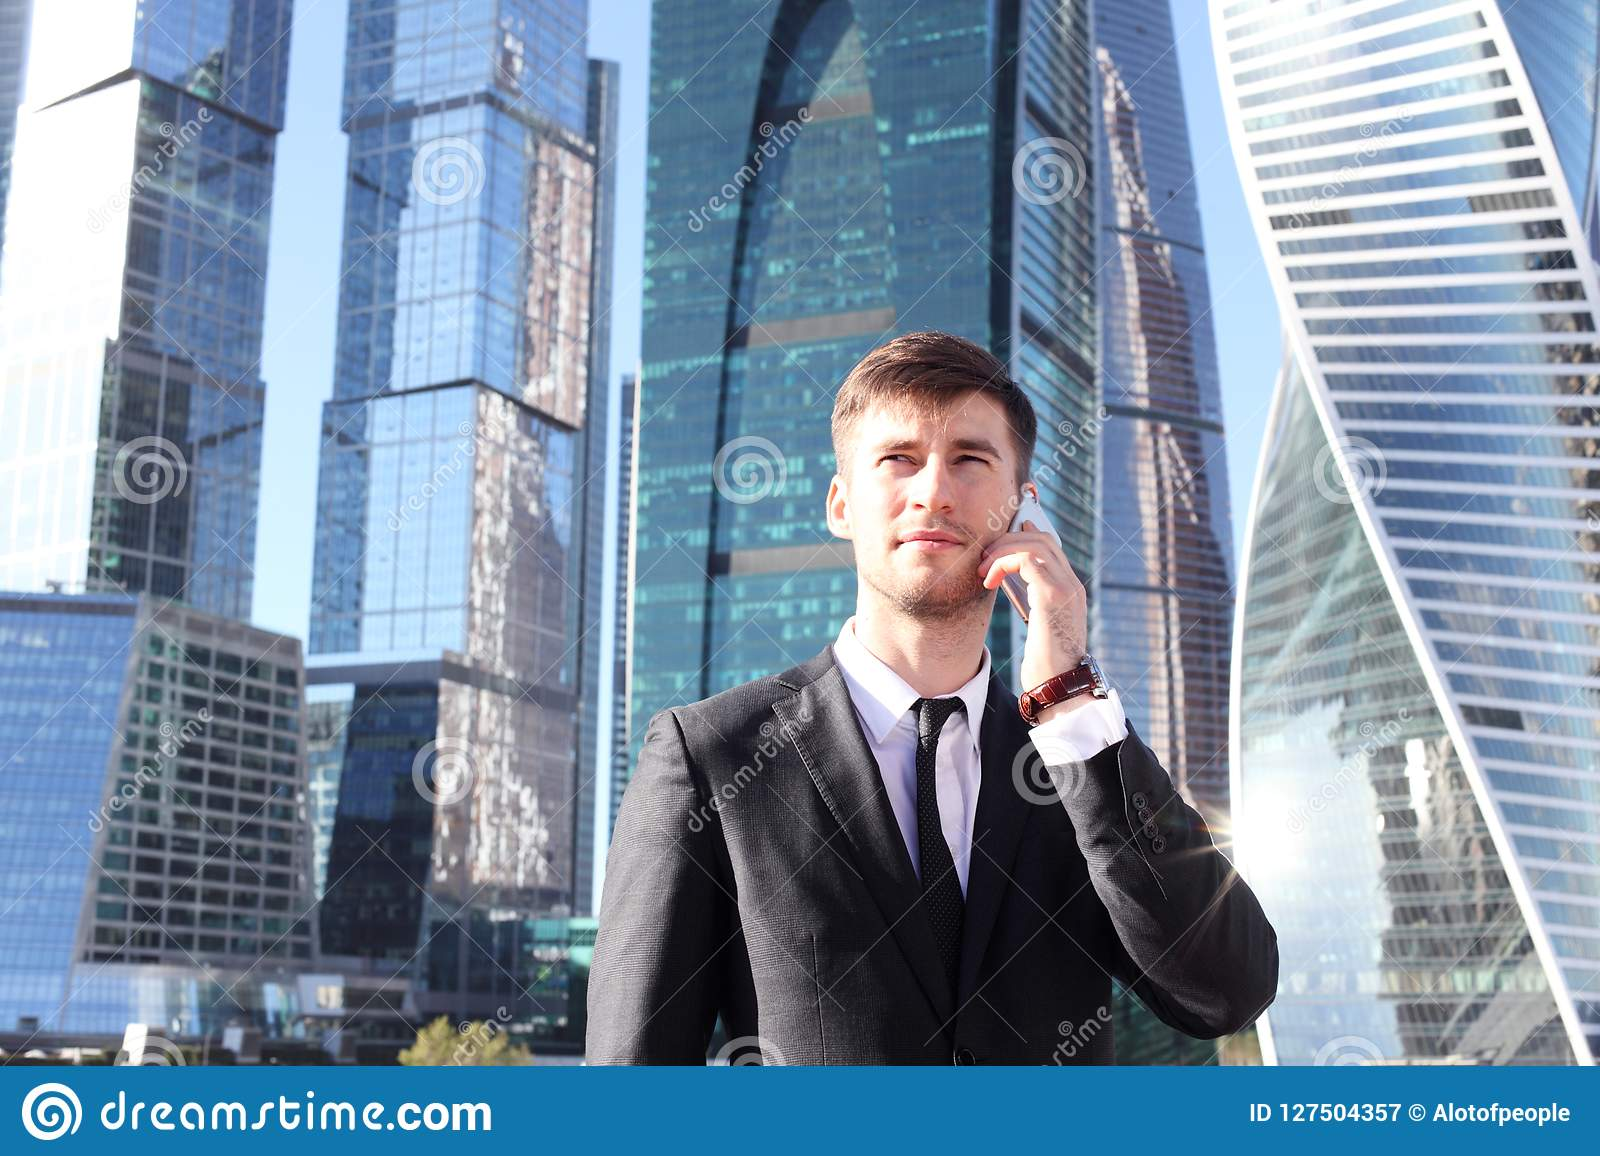phone: (993, 488, 1065, 636)
talk: (853, 420, 1093, 680)
